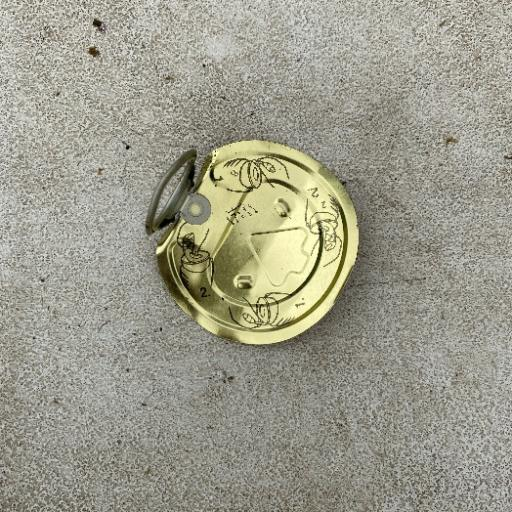Metal: (142, 137, 360, 347)
